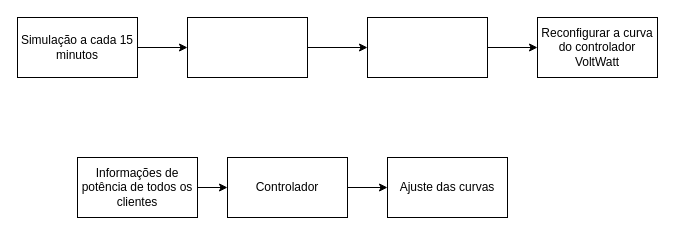
Some shapes in this 675 by 235 pixel diagram are drawn without their labels. The shapes that lost their labels are listed below. From the top down, each one's centre as x and y in pixels, then its label:
At pixel 247 47: "Gerar dados de potência, tensão, corrente".
At pixel 427 47: "Pegar os dados e realizar os Jogos".
